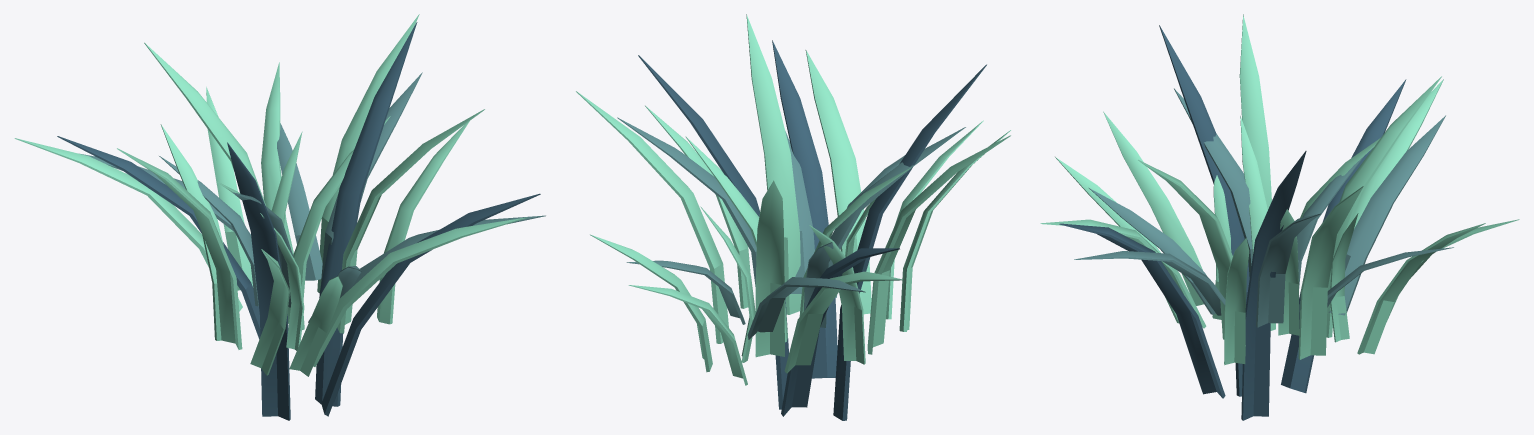
Rendered from grass_pack.fbx.
3 views of the same model, side by side, from view 1: azimuth 30°, elevation 25°; view 2: azimuth 150°, elevation 25°; view 3: azimuth 270°, elevation 25° (orthographic). The views are drawn at different scales.
Parts seen in each view (by area): view 1: Grass, Grass_3, Grass_2; view 2: Grass, Grass_3, Grass_2; view 3: Grass, Grass_3, Grass_2.
Boxes of the visible parts, x1=… form: Grass: x1=14, y1=14, x2=527, y2=376; Grass_3: x1=57, y1=22, x2=540, y2=420; Grass_2: x1=79, y1=72, x2=545, y2=322; Grass: x1=576, y1=14, x2=1010, y2=385; Grass_3: x1=638, y1=40, x2=986, y2=420; Grass_2: x1=617, y1=117, x2=965, y2=339; Grass: x1=1040, y1=14, x2=1519, y2=365; Grass_3: x1=1059, y1=25, x2=1406, y2=420; Grass_2: x1=1074, y1=88, x2=1453, y2=327.
Size of the model in its own units: 92.9 by 80.79 by 109.
